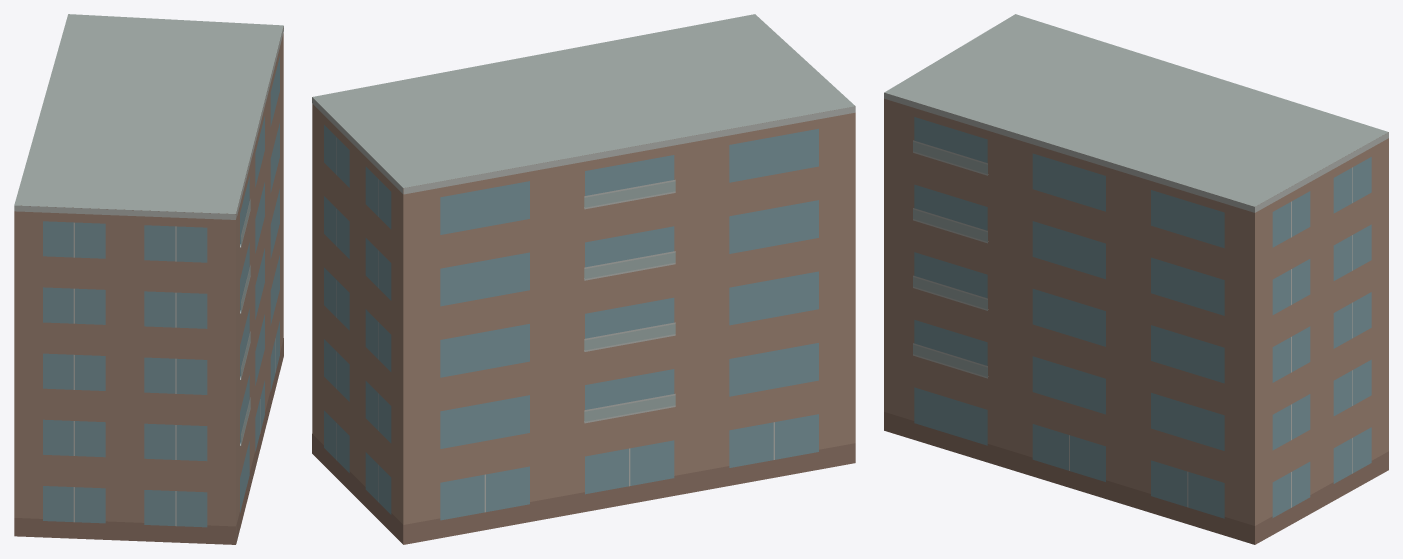
The model's file is survey-upis-32578325.glb.
3 renders of one model, left to right at view 1: azimuth 30°, elevation 25°; view 2: azimuth 150°, elevation 25°; view 3: azimuth 270°, elevation 25°, orthographic. The views are drawn at different scales.
Visible parts, largest first — view 1: survey-upis-32578325.tmp; view 2: survey-upis-32578325.tmp; view 3: survey-upis-32578325.tmp.
Boxes of the visible parts, box(x1,y1,x2,y2) form: survey-upis-32578325.tmp: box(14, 14, 283, 544); survey-upis-32578325.tmp: box(312, 14, 855, 544); survey-upis-32578325.tmp: box(884, 14, 1388, 544).
Bounding box in the file's own units: 16.65 × 13.6 × 18.41.
